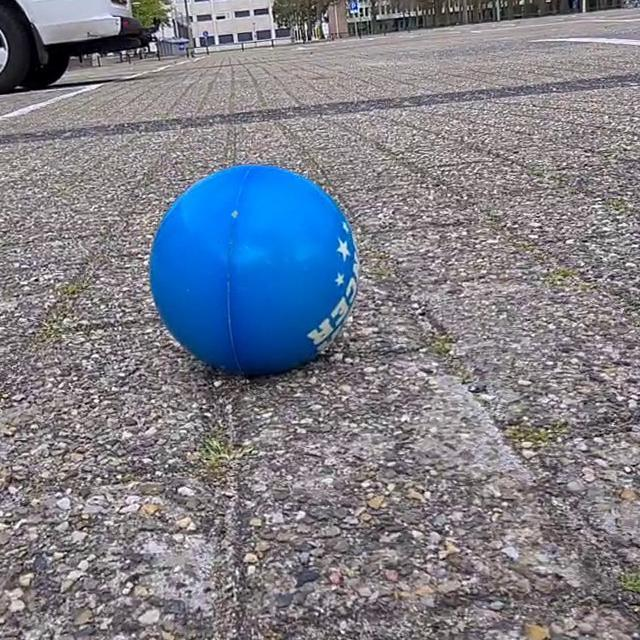ball: (148, 159, 362, 378)
